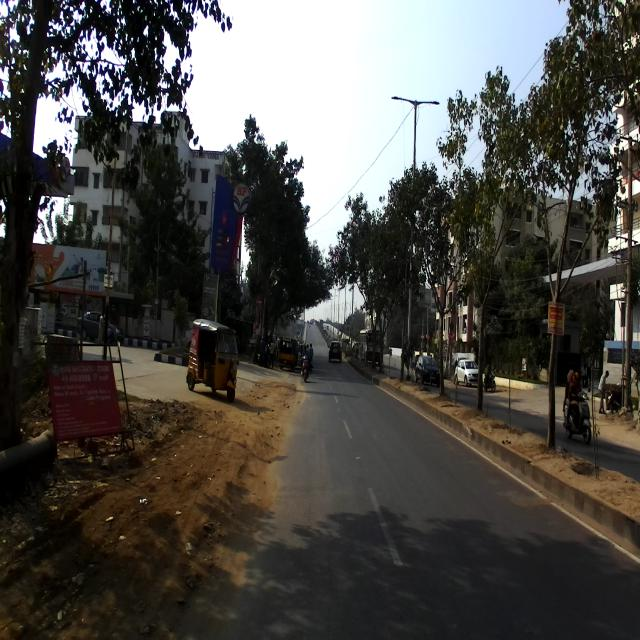auto ahead at: (187, 304, 255, 426)
barrier ahead at: (44, 352, 140, 465)
